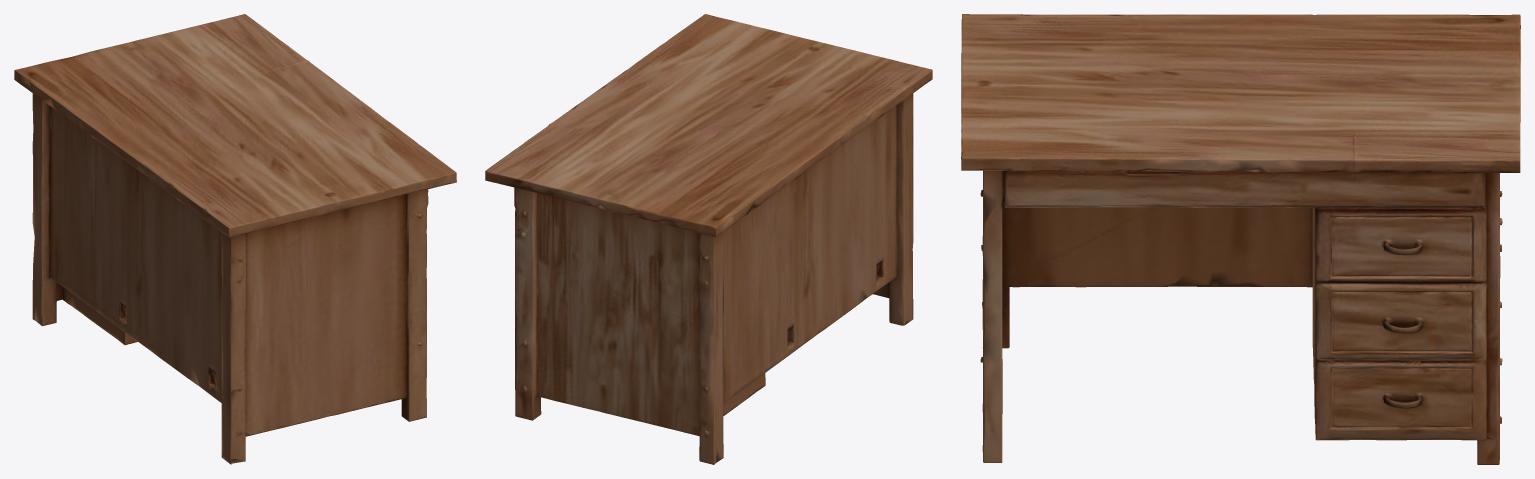
Rendered from prop_desk-DAT3JyKI.glb.
3 renders of one model, left to right at view 1: azimuth 30°, elevation 25°; view 2: azimuth 150°, elevation 25°; view 3: azimuth 270°, elevation 25°, orthographic. The views are drawn at different scales.
Visible parts, largest first — view 1: tripo_node_07ef0fd4-5af6-4d63-bb31-ba0d94f0d839; view 2: tripo_node_07ef0fd4-5af6-4d63-bb31-ba0d94f0d839; view 3: tripo_node_07ef0fd4-5af6-4d63-bb31-ba0d94f0d839.
Boxes of the visible parts, box(x1,y1,x2,y2) form: tripo_node_07ef0fd4-5af6-4d63-bb31-ba0d94f0d839: box(14, 14, 456, 464); tripo_node_07ef0fd4-5af6-4d63-bb31-ba0d94f0d839: box(485, 14, 932, 464); tripo_node_07ef0fd4-5af6-4d63-bb31-ba0d94f0d839: box(961, 14, 1520, 464).
Size of the model in its own units: 0.6211 by 0.6304 by 1.
Materials: 1 (1 with a texture image).
